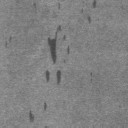red iron: (48, 25, 64, 64), (28, 110, 34, 122), (57, 70, 62, 84), (45, 70, 50, 82), (92, 0, 96, 8), (87, 16, 91, 24), (62, 34, 66, 40), (67, 46, 70, 54), (43, 103, 46, 110)
